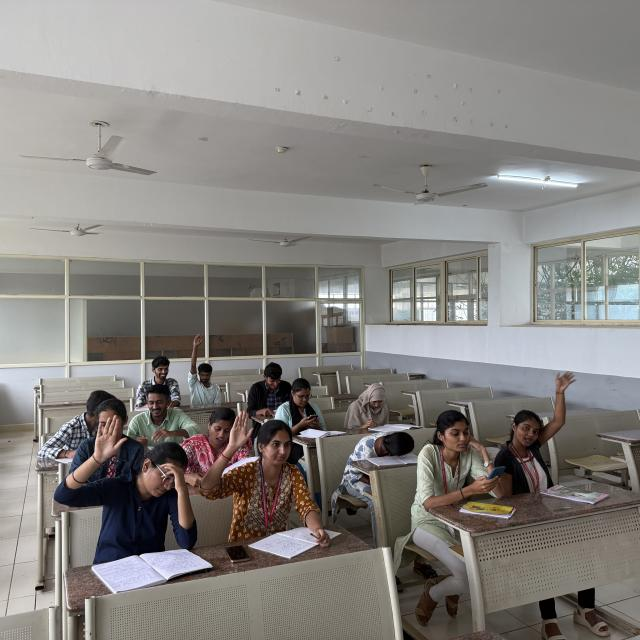Hand Rising: (59, 418, 197, 550), (207, 414, 315, 524), (506, 372, 568, 472), (190, 332, 220, 403)
Sleeping: (348, 424, 417, 480)
Using Phone: (419, 409, 507, 500), (284, 378, 344, 438)
Writing: (343, 379, 415, 431)
